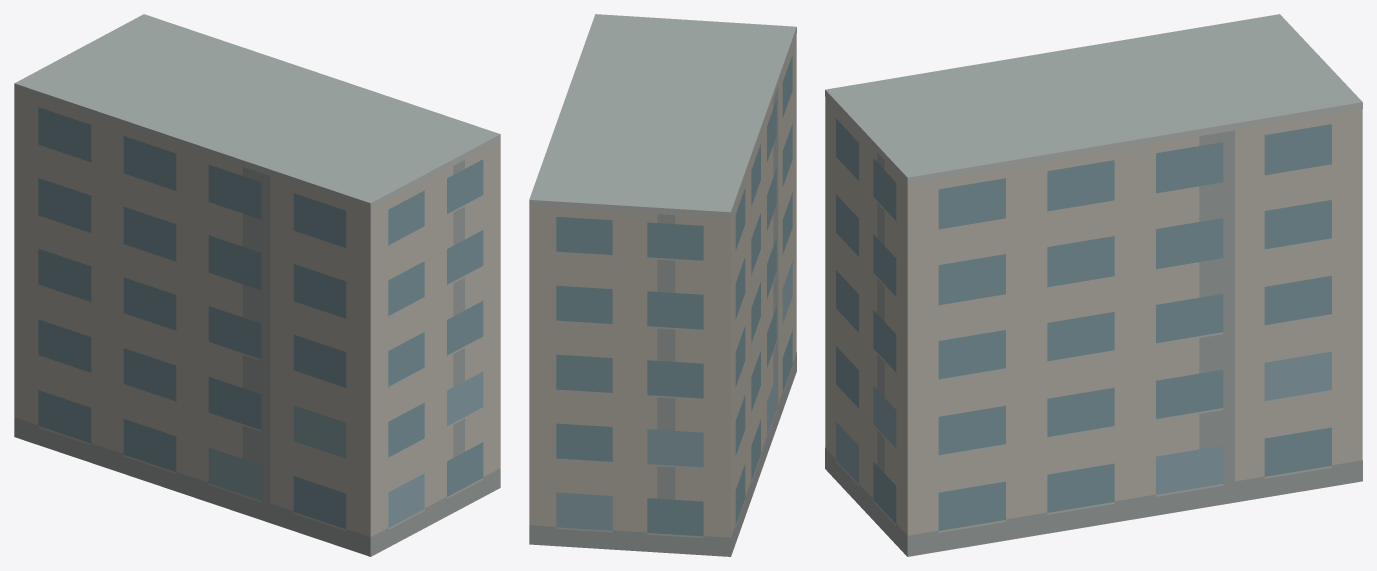
File: survey-upis-32888476.glb
3 renders of one model, left to right at view 1: azimuth 30°, elevation 25°; view 2: azimuth 150°, elevation 25°; view 3: azimuth 270°, elevation 25°, orthographic. The views are drawn at different scales.
Parts seen in each view (by area): view 1: survey-upis-32888476.tmp; view 2: survey-upis-32888476.tmp; view 3: survey-upis-32888476.tmp.
Boxes of the visible parts, <box> form: survey-upis-32888476.tmp: <box>14,14,500,556</box>; survey-upis-32888476.tmp: <box>529,14,796,556</box>; survey-upis-32888476.tmp: <box>825,14,1362,556</box>.
Size of the model in its own units: 12.23 by 13.2 by 16.97.
